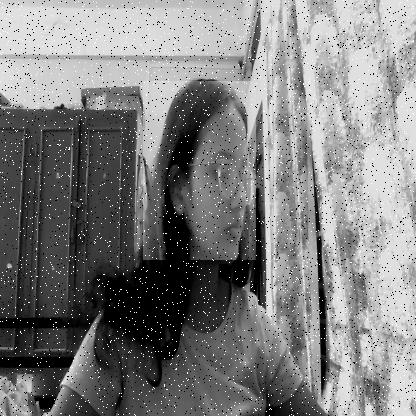Distracted: (143, 81, 256, 260)
